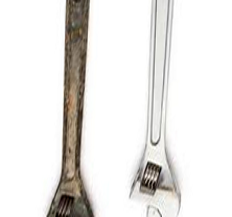Wrench: (130, 1, 191, 217), (46, 1, 103, 217)
